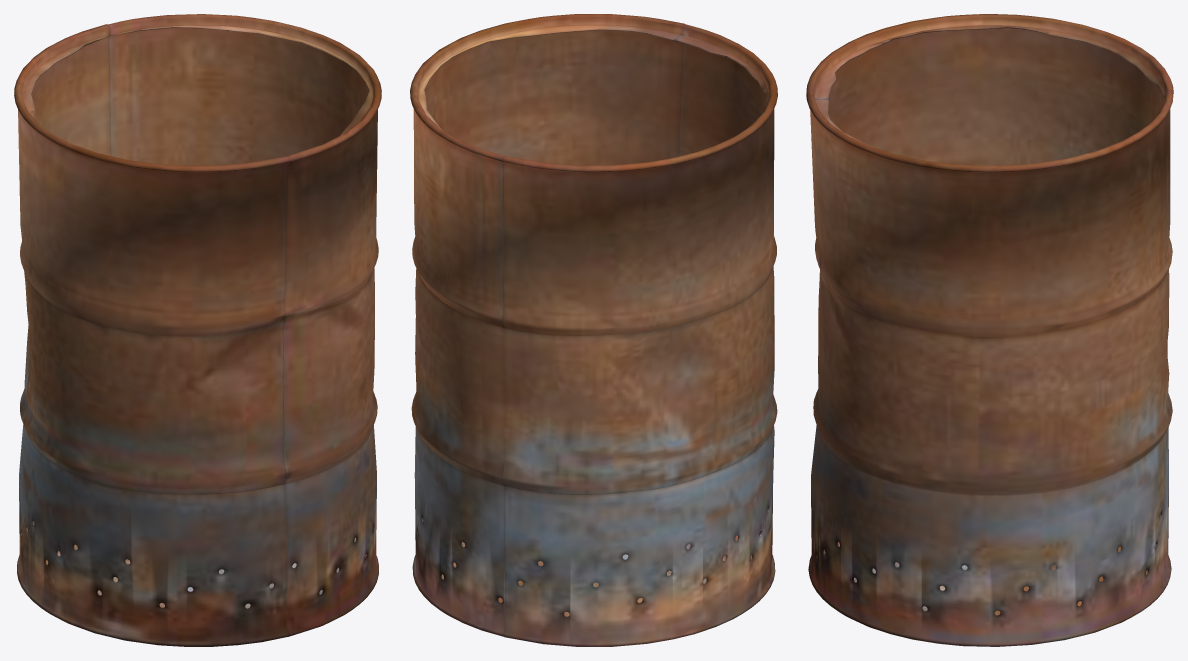
File: barrel_stove.glb
3 renders of one model, left to right at view 1: azimuth 30°, elevation 25°; view 2: azimuth 150°, elevation 25°; view 3: azimuth 270°, elevation 25°, orthographic.
Visible parts, largest first — view 1: barrel_stove; view 2: barrel_stove; view 3: barrel_stove.
Part boxes in pixels (left/top/right/bottom): barrel_stove: left=14, top=14, right=381, bottom=646; barrel_stove: left=410, top=14, right=777, bottom=646; barrel_stove: left=806, top=14, right=1173, bottom=646.
Size of the model in its own units: 0.5931 by 0.8562 by 0.593.
Materials: 1 (1 with a texture image).
